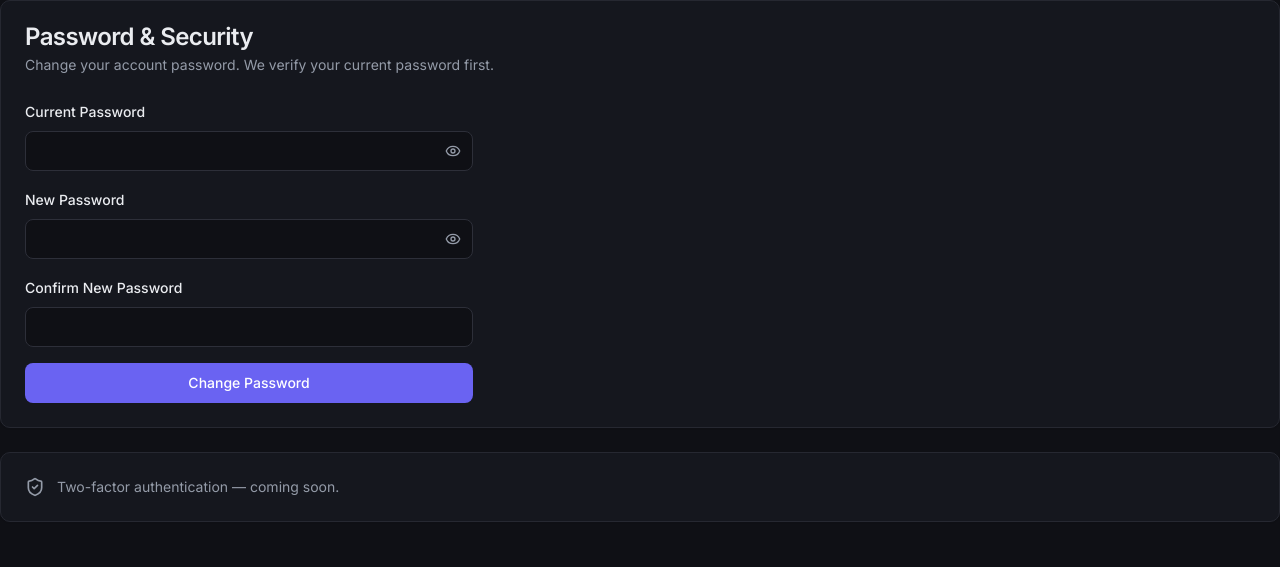
SecuritySettings › shows an error for a new password under 8 characters
The width and height of the screenshot is (1280, 567).
Type "oldpass123" into the password field labelled "Current Password". click: [249, 151]
box: x1=25 y1=131 x2=473 y2=171
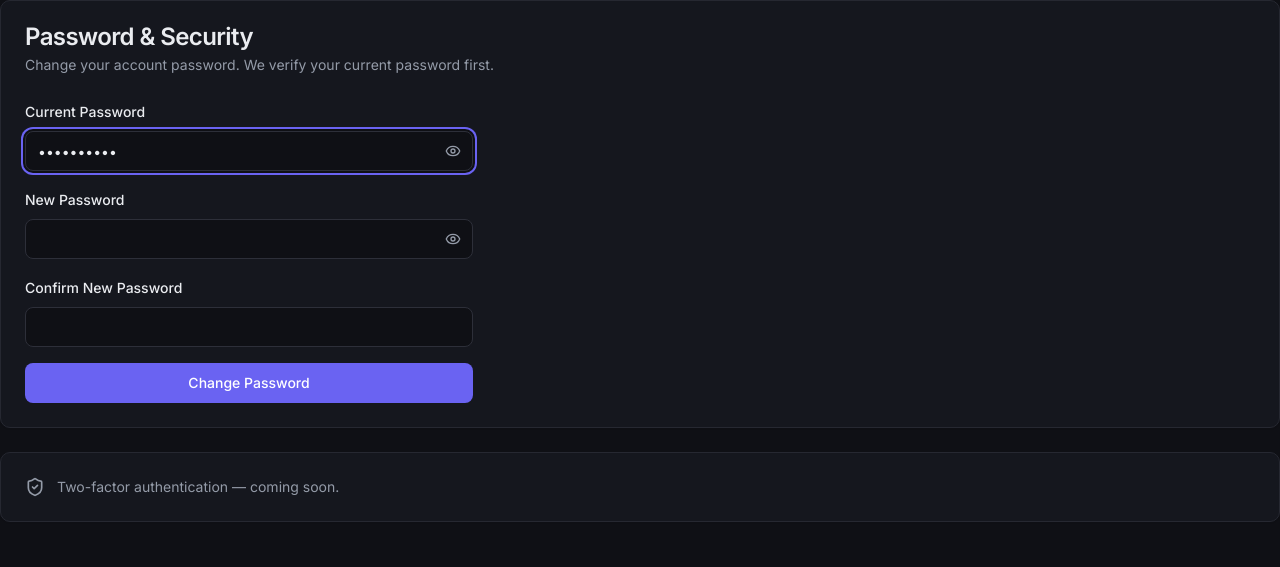
Type "short" into the password field labelled "New Password". click: [249, 239]
box: x1=25 y1=219 x2=473 y2=259
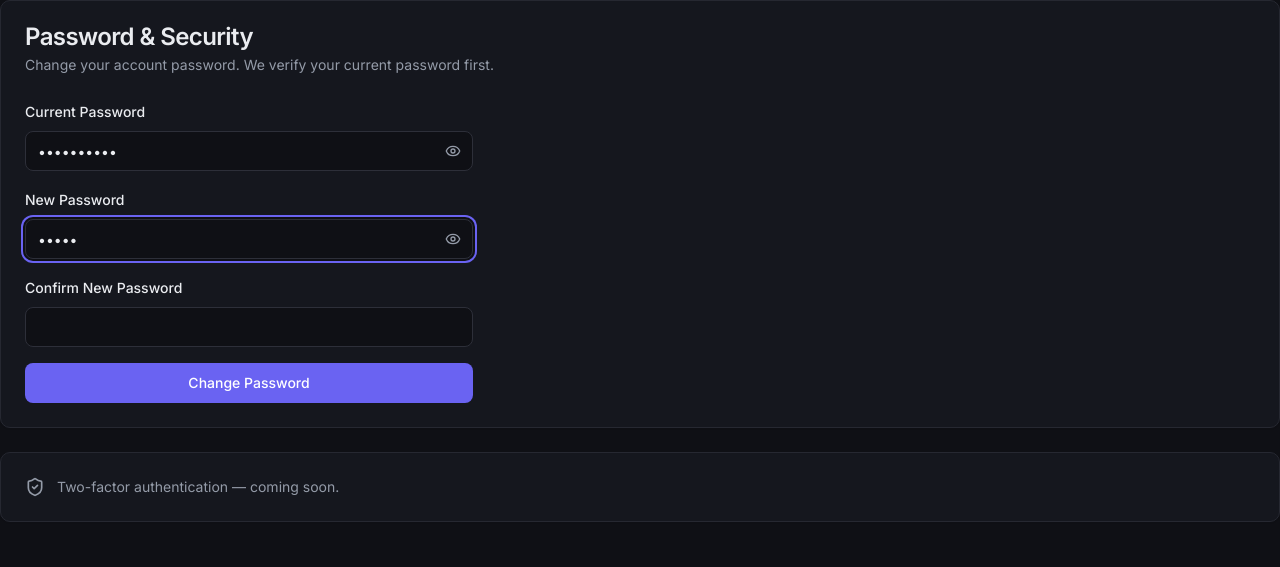
Type "short" into the password field labelled "Confirm New Password". click: [249, 327]
box: x1=25 y1=307 x2=473 y2=347
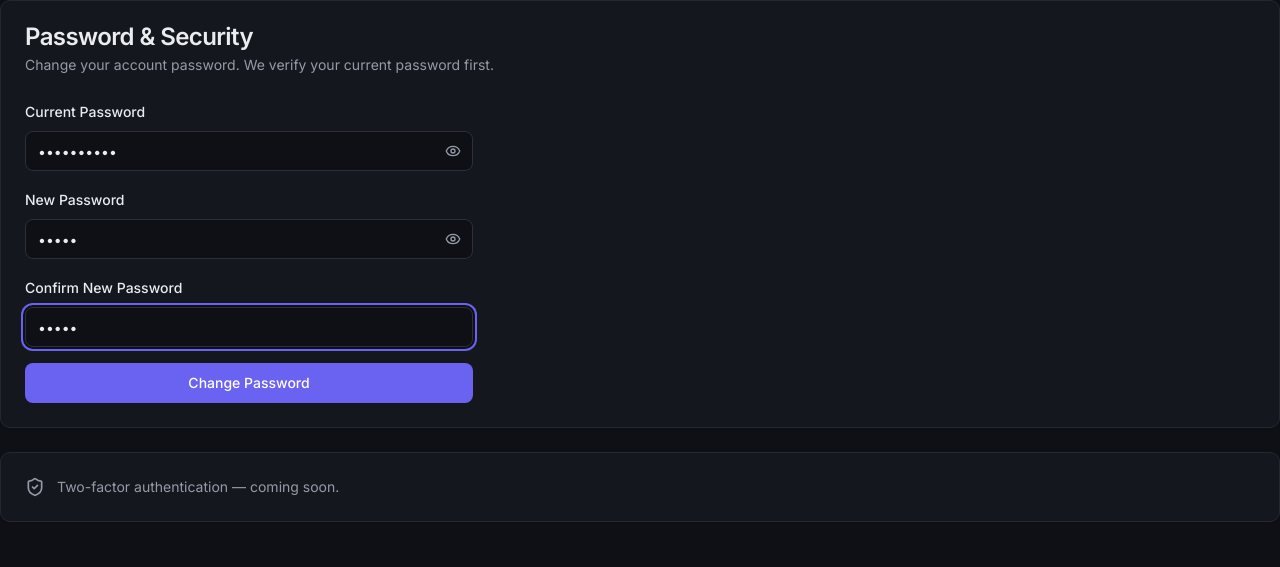
Click the button "Change Password". click: [249, 383]
box: x1=25 y1=363 x2=473 y2=403
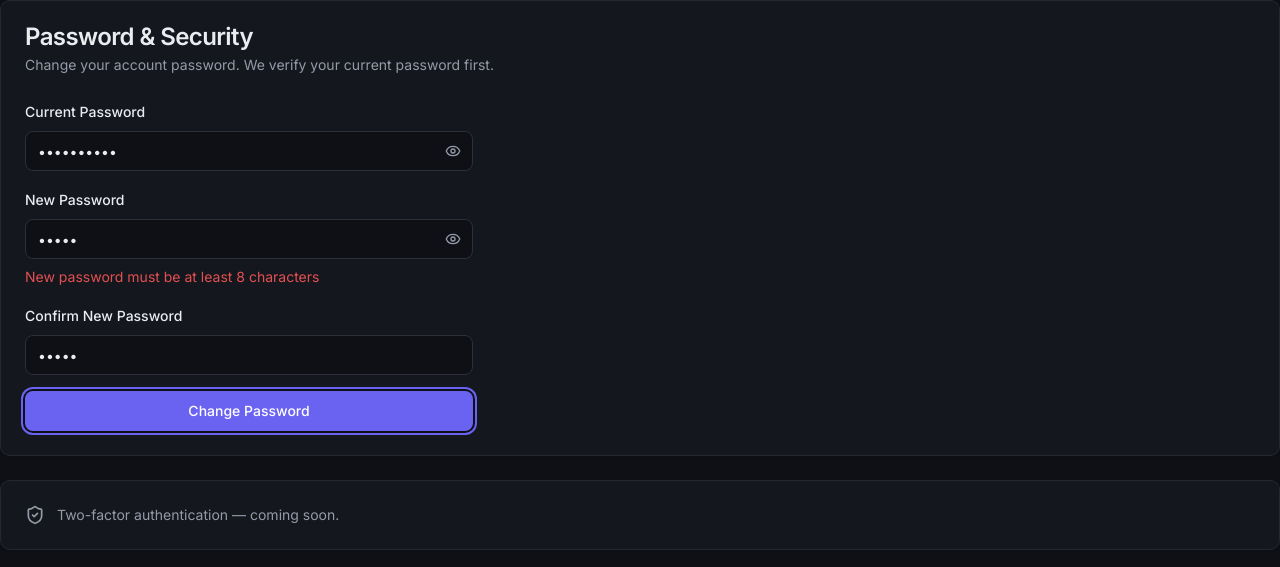
Result: the text "New password must be at least 8 characters" is shown at x1=25 y1=268 x2=319 y2=285
